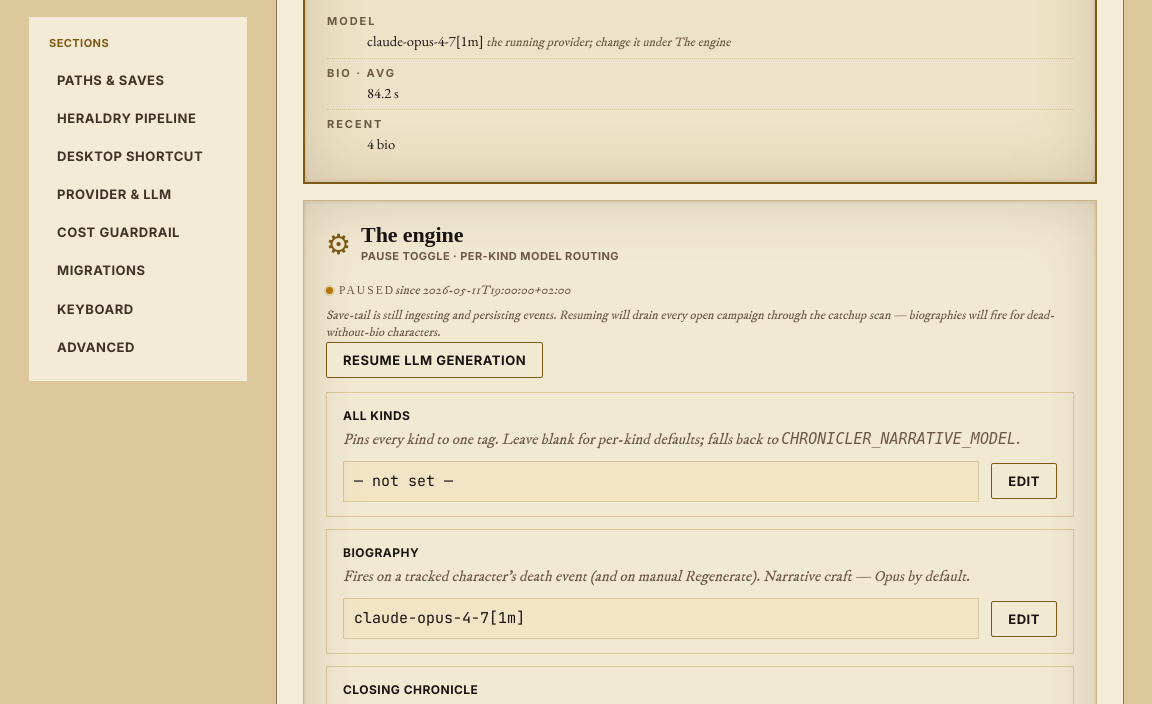
it: SettingsPage LLM engine card › PUTs paused=false when toggling from Paused, then renders the last_drain counts
The image size is (1152, 704).
(page scrolled)
What coordinates should you click on to do the following:
click the button with test id "llm-pause-toggle"
I would click on:
 (435, 360)
Its box is [326, 342, 543, 378].
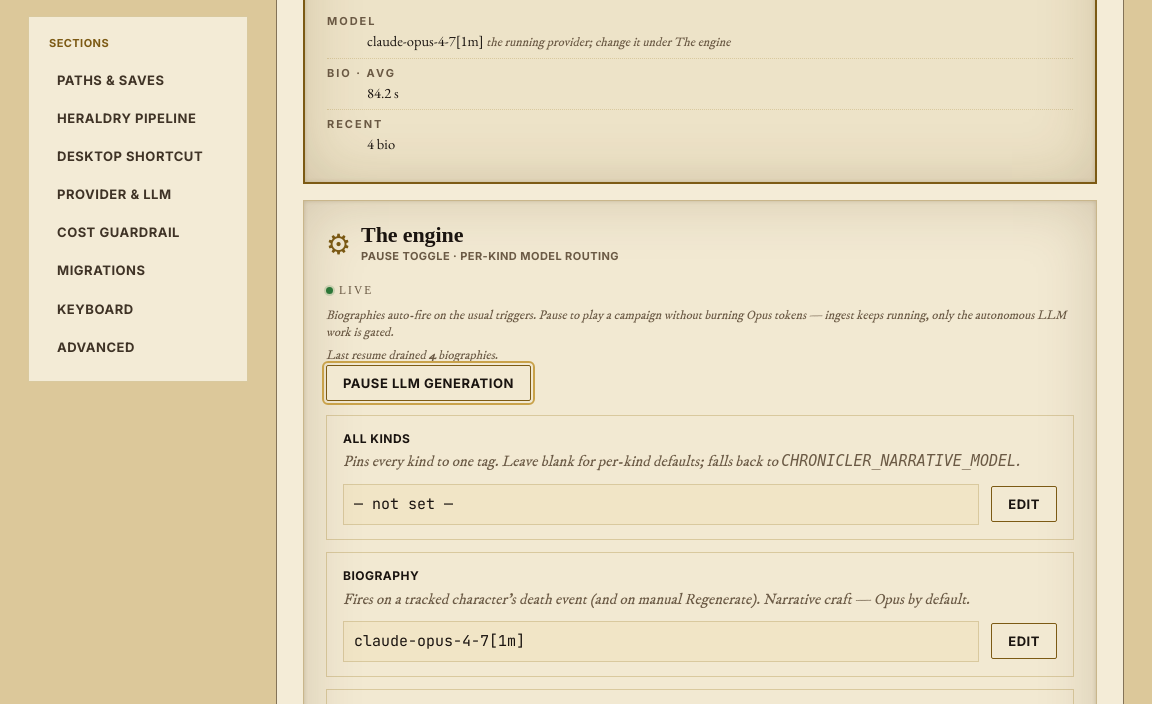
Expected: the element with test id "llm-last-drain" shows "4", [428, 348, 436, 363]
